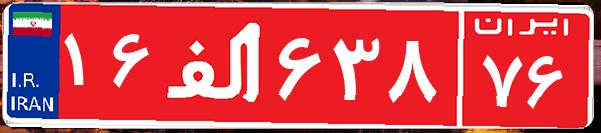1: (57, 26, 110, 107)
3: (330, 28, 385, 110)
6: (273, 28, 330, 110), (110, 28, 158, 105), (525, 38, 570, 115)
7: (475, 38, 525, 113)
8: (385, 28, 445, 110)
الف: (158, 15, 273, 115)
